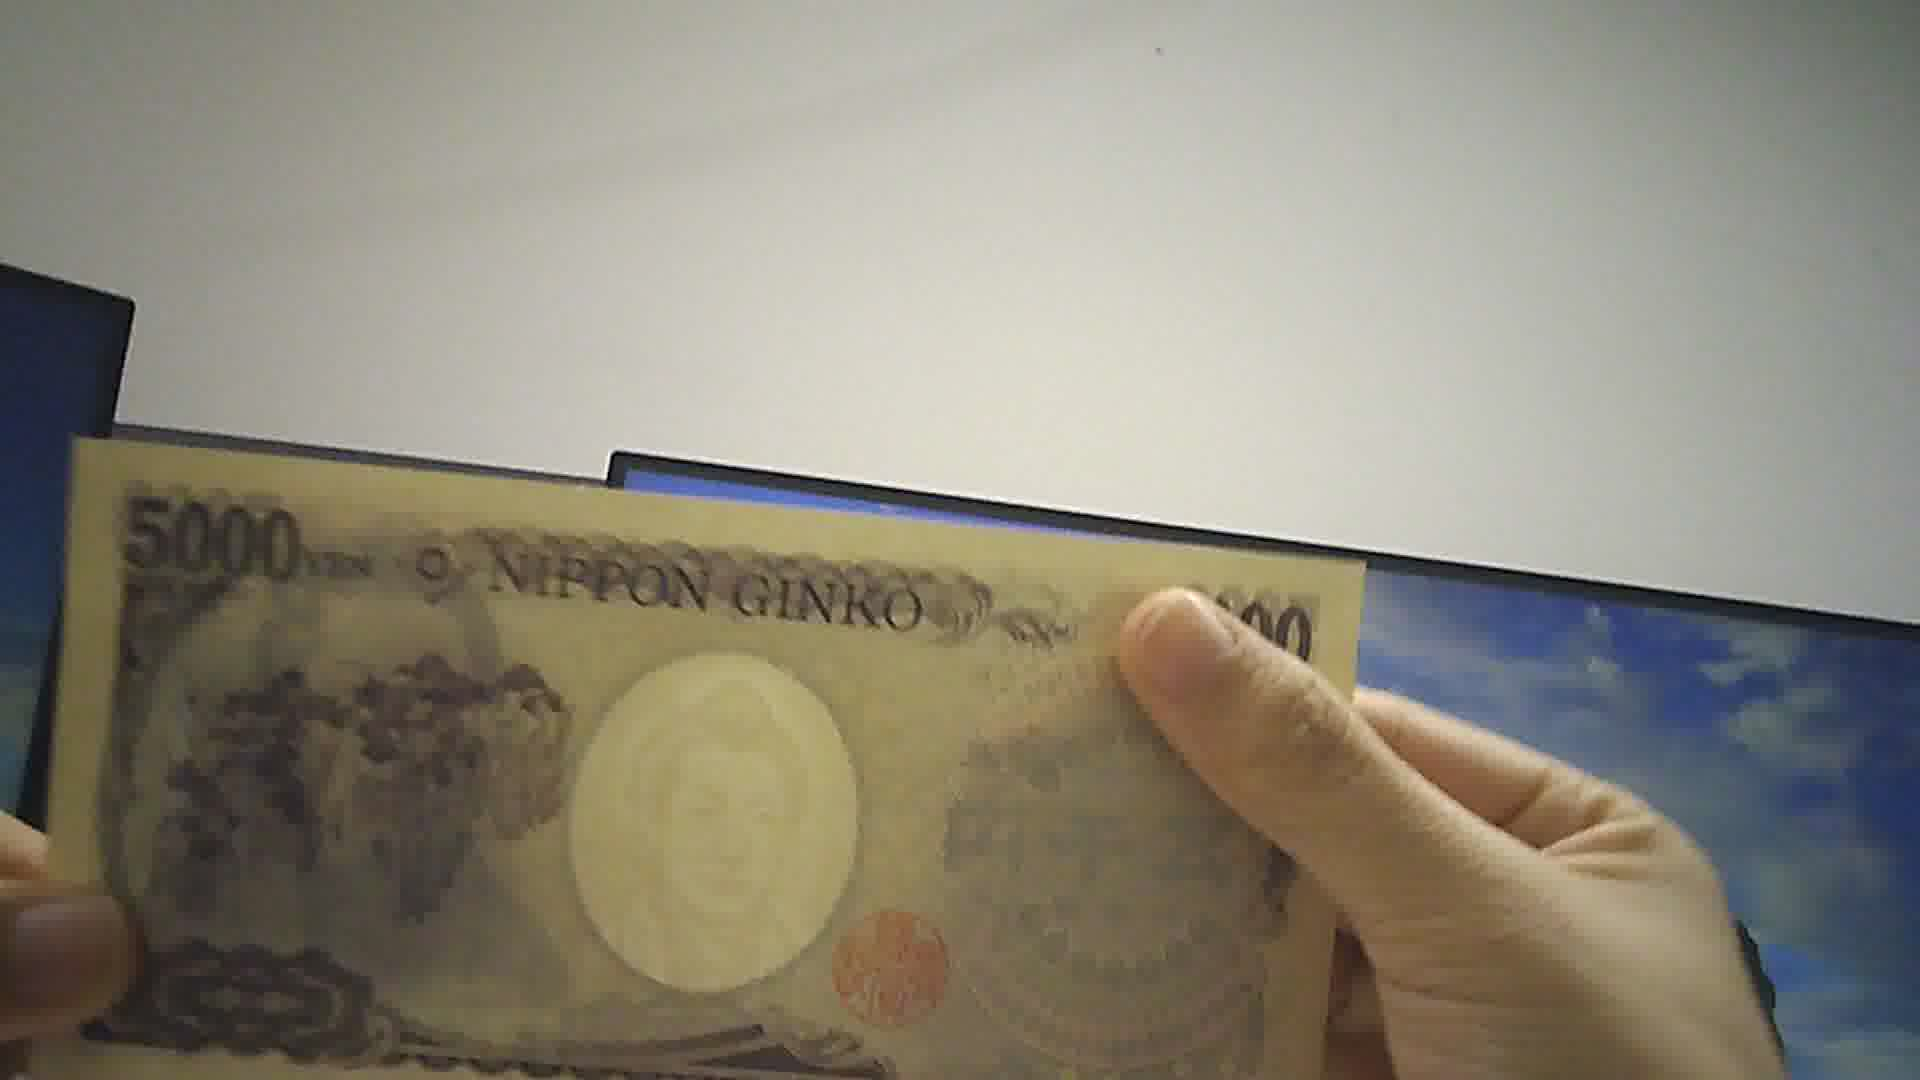5,000 Yen: (55, 418, 1324, 1079)
